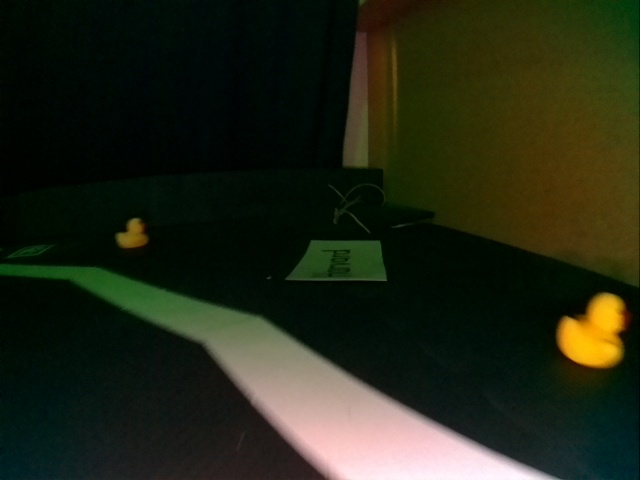Duckie: (558, 292, 627, 367), (115, 218, 149, 247)
QR code: (7, 244, 55, 258)
